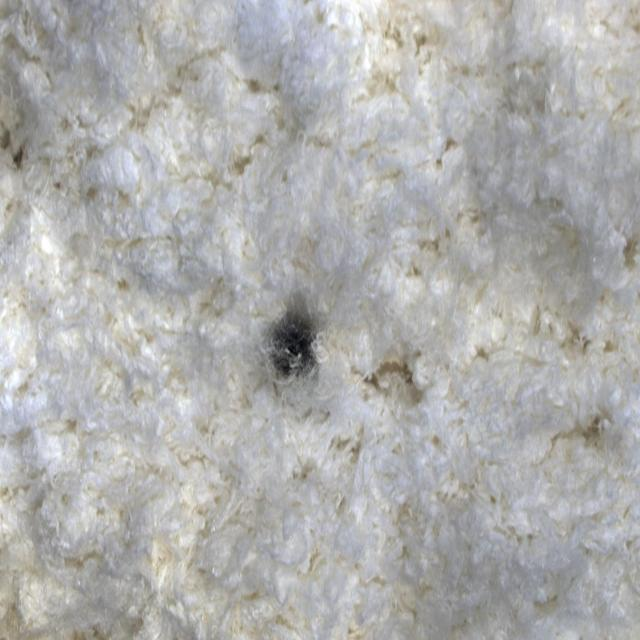dust: (243, 257, 355, 435)
